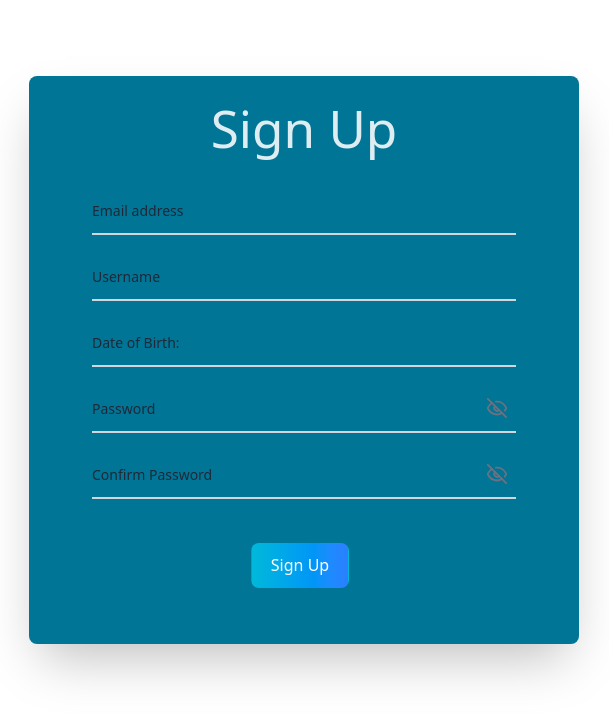
Sign Up Flow › should show if passwords do not match
Type "helooo907T" into the password field named "password".
click(304, 410); type("helooo907T")  # box top-left (92, 387), bottom-right (516, 433)
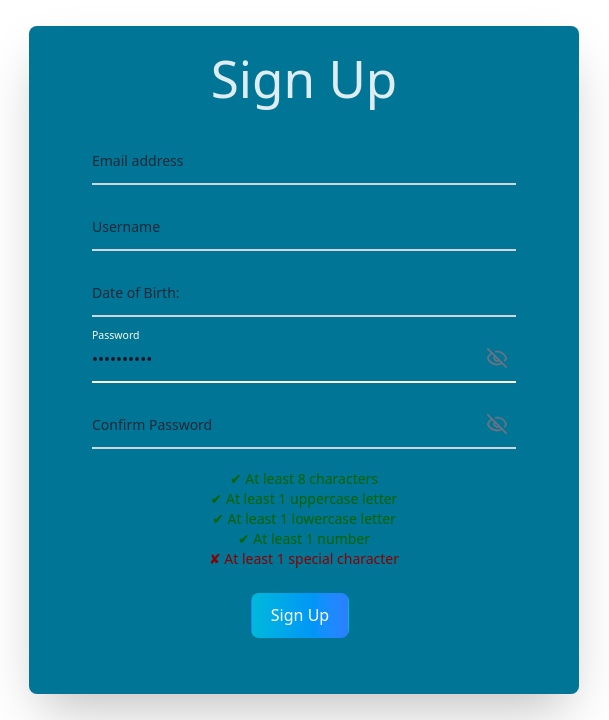
Type "heooo907T" into the password field named "confirmPassword".
click(304, 426); type("heooo907T")  # box top-left (92, 403), bottom-right (516, 449)
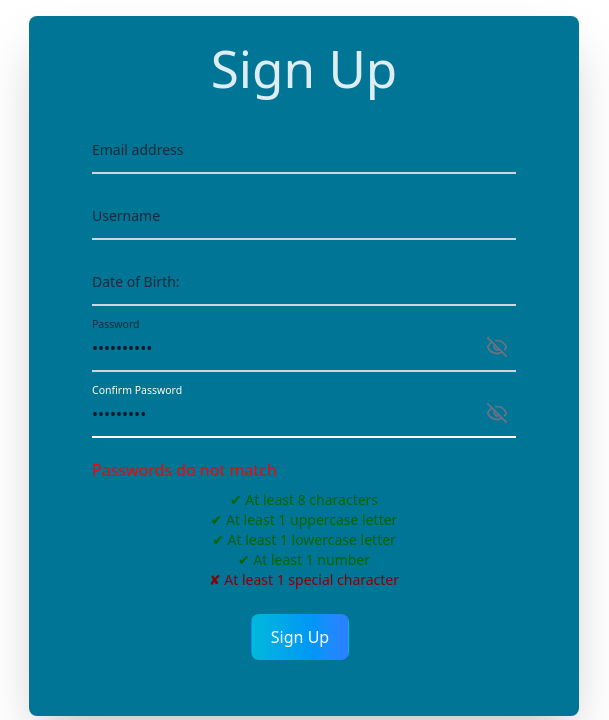
Expected: the text "Passwords do not match" is shown, top-left (92, 459), bottom-right (277, 481)
